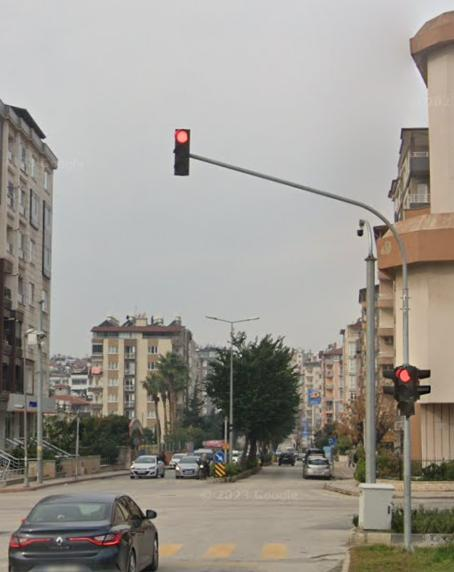redlight: (394, 365, 417, 417), (174, 130, 190, 176)
